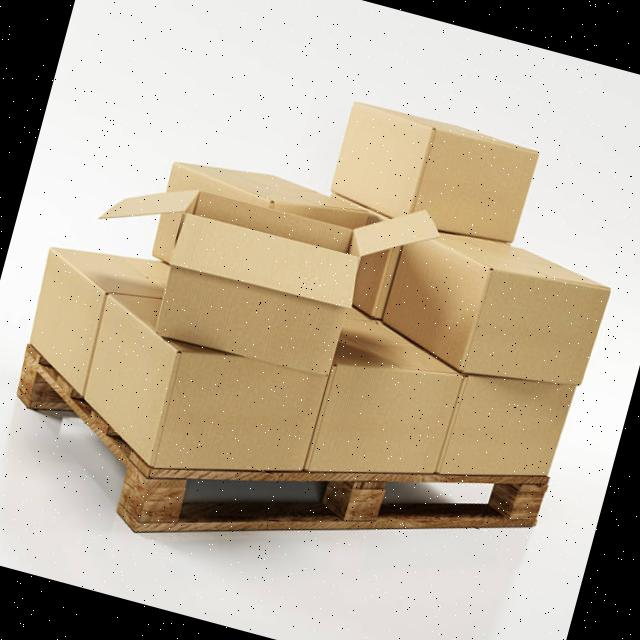Wooden-Pallets: (8, 340, 549, 544)
